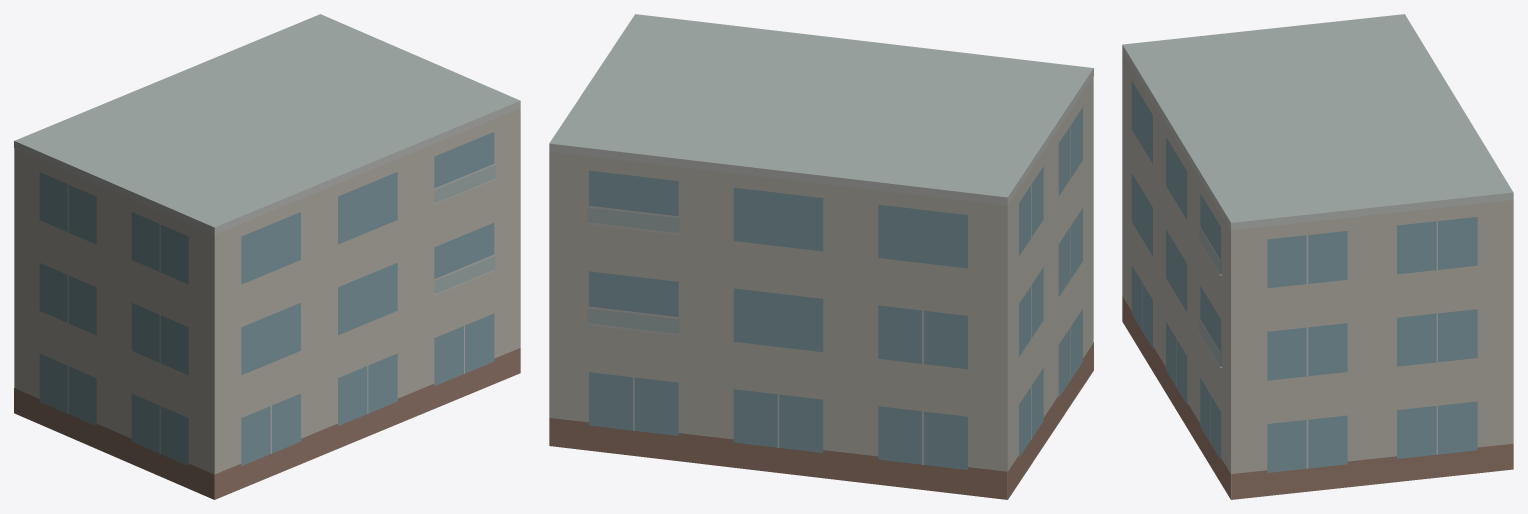
The model's file is survey-upis-32646364.glb.
3 renders of one model, left to right at view 1: azimuth 30°, elevation 25°; view 2: azimuth 150°, elevation 25°; view 3: azimuth 270°, elevation 25°, orthographic. The views are drawn at different scales.
Visible parts, largest first — view 1: survey-upis-32646364.tmp; view 2: survey-upis-32646364.tmp; view 3: survey-upis-32646364.tmp.
Boxes of the visible parts, left/top/right/bottom form: survey-upis-32646364.tmp: left=14, top=14, right=520, bottom=499; survey-upis-32646364.tmp: left=549, top=14, right=1093, bottom=499; survey-upis-32646364.tmp: left=1122, top=14, right=1513, bottom=499.
Bounding box in the file's own units: 14.81 × 9.15 × 11.72.
